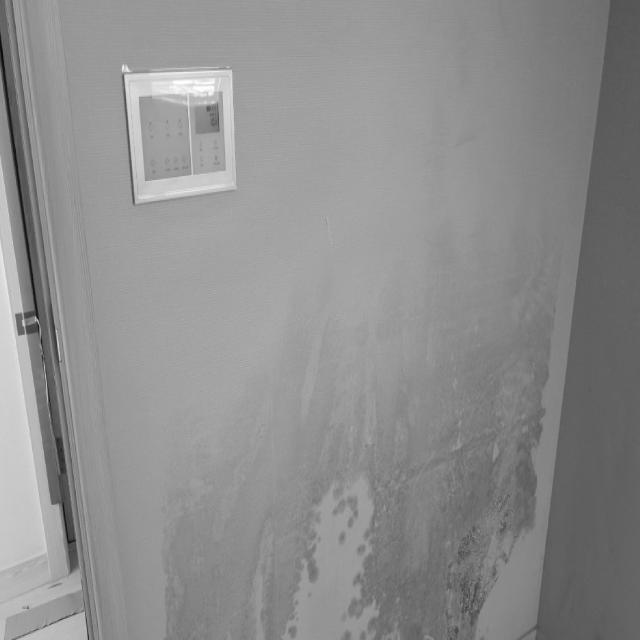stain marks: (178, 240, 536, 631), (446, 486, 522, 626), (536, 213, 570, 447), (145, 429, 176, 640)
